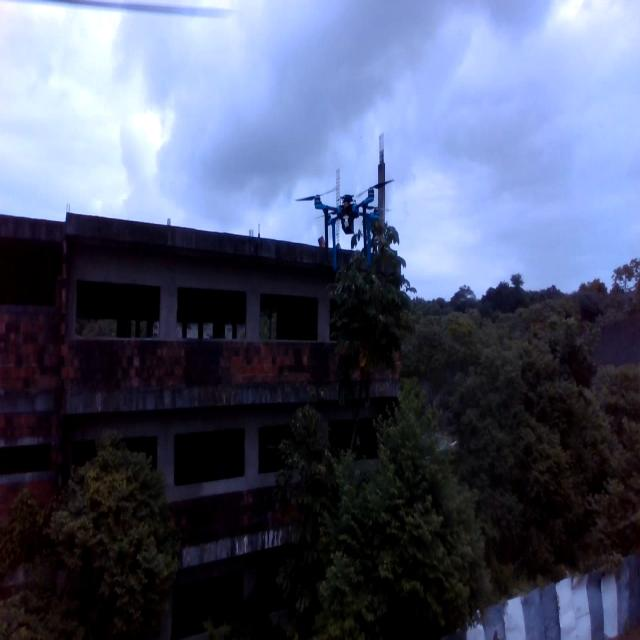-uav-: (298, 168, 408, 271)
